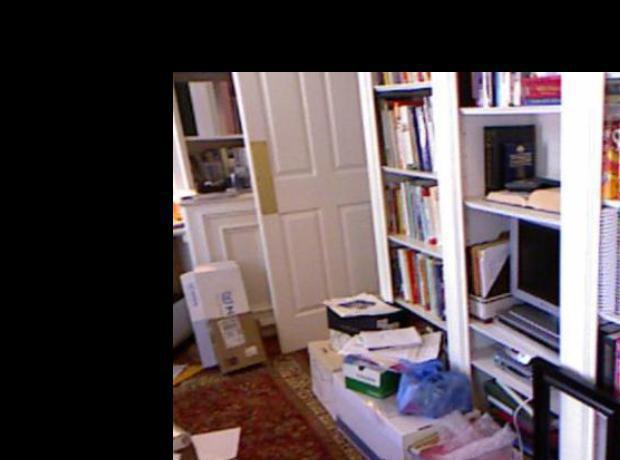Otro Obstaculo: (317, 301, 474, 460), (405, 409, 521, 460)
